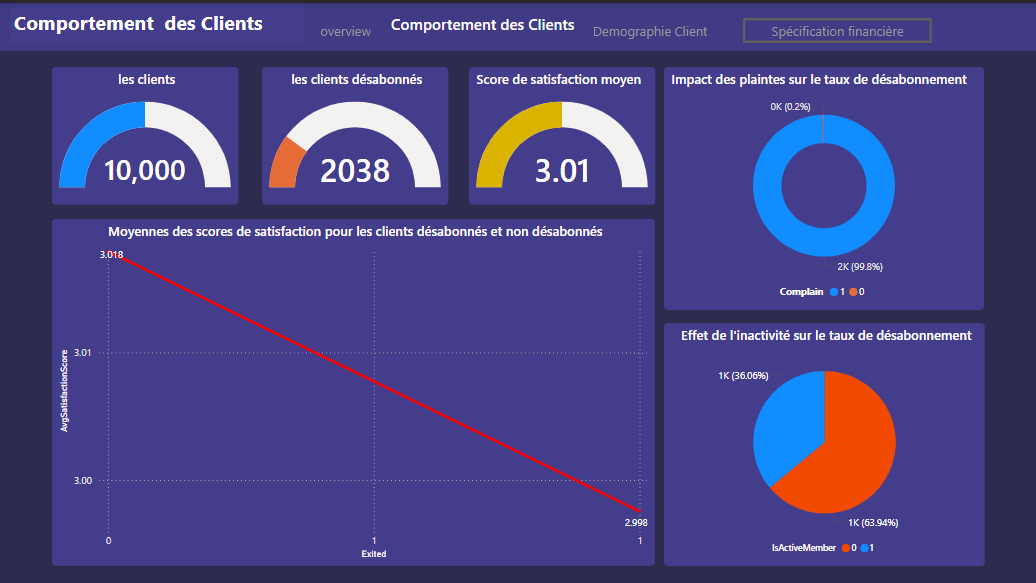

This screenshot's page, from the dashboard's own definition file:
{"tool":"powerbi","page":{"name":"Comportement  des Clients","canvas":[1280,720],"ordinal":1},"visuals":[{"type":"shape","box":[0,0,1280,59.2],"z":0},{"type":"textbox","box":[13.2,2.9,364.4,47],"z":1000},{"type":"gauge","title":"les clients désabonnés","fields":{"Y":["Sum(table_faits.Exited)"],"MaxValue":["CountNonNull(table_faits.id_Client)"]},"box":[324.6,79,229.6,170.3],"z":2000},{"type":"gauge","title":"les clients ","fields":{"Y":["CountNonNull(table_faits.id_Client)"]},"box":[65.4,79,229.6,170.3],"z":3000},{"type":"gauge","title":"Score de satisfaction moyen","fields":{"Y":["table_faits.AvgSatisfactionScore"]},"box":[580.1,79,229.6,170.3],"z":4000},{"type":"lineChart","title":"Moyennes des scores de satisfaction pour les clients désabonnés et non désabonnés","fields":{"Y":["table_faits.AvgSatisfactionScore"],"Category":["table_faits.Exited"]},"box":[65.4,266.6,744.3,428.3],"z":5000},{"type":"pieChart","title":"Effet de l''inactivité sur le taux de désabonnement","fields":{"Y":["table_faits.ChurnedCustomers"],"Category":["dim_Client.IsActiveMember"]},"box":[820.8,395,396.2,299.9],"z":6000},{"type":"donutChart","title":"Impact des plaintes  sur le taux de désabonnement","fields":{"Y":["Sum(table_faits.Exited)"],"Category":["table_faits.Complain"]},"box":[820.8,79,395,300],"z":7000},{"type":"actionButton","title":"overview","box":[377.6,19.1,99.9,30.9],"z":8000},{"type":"actionButton","title":"Demographie Client","box":[695,19.1,217.5,30.9],"z":9000},{"type":"actionButton","title":"Comportement  des Clients","box":[457,13.2,280.7,30.9],"z":10000},{"type":"actionButton","title":"Page 3","box":[918.3,18.5,233.3,30.9],"z":11000}]}

Visuals, with their boxes in screenshot pixels (x1, y1, x2, y2), scaled from the page's 1280x720 canvas onto the 1036x583 screenshot:
shape: (0, 0, 1035, 48)
textbox: (11, 2, 306, 40)
"les clients désabonnés" gauge: (263, 64, 449, 202)
"les clients " gauge: (53, 64, 239, 202)
"Score de satisfaction moyen" gauge: (470, 64, 655, 202)
"Moyennes des scores de satisfaction pour les clients désabonnés et non désabonnés" lineChart: (53, 216, 655, 563)
"Effet de l''inactivité sur le taux de désabonnement" pieChart: (664, 320, 985, 563)
"Impact des plaintes  sur le taux de désabonnement" donutChart: (664, 64, 984, 307)
"overview" actionButton: (306, 15, 386, 40)
"Demographie Client" actionButton: (563, 15, 739, 40)
"Comportement  des Clients" actionButton: (370, 11, 597, 36)
"Page 3" actionButton: (743, 15, 932, 40)
